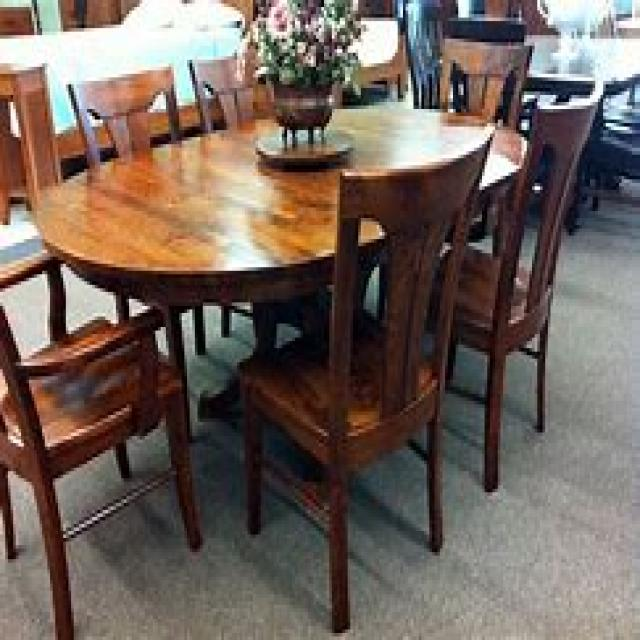chair: (237, 120, 495, 633), (0, 246, 203, 637)
table: (32, 99, 530, 548)
